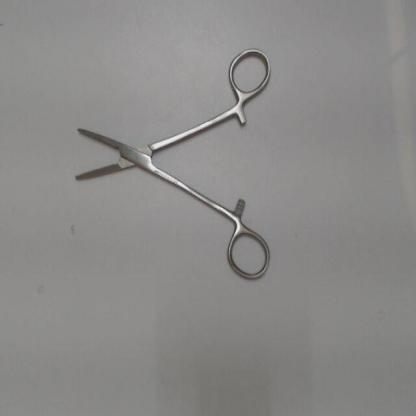Mayo Needle Holder: (68, 40, 278, 287)
